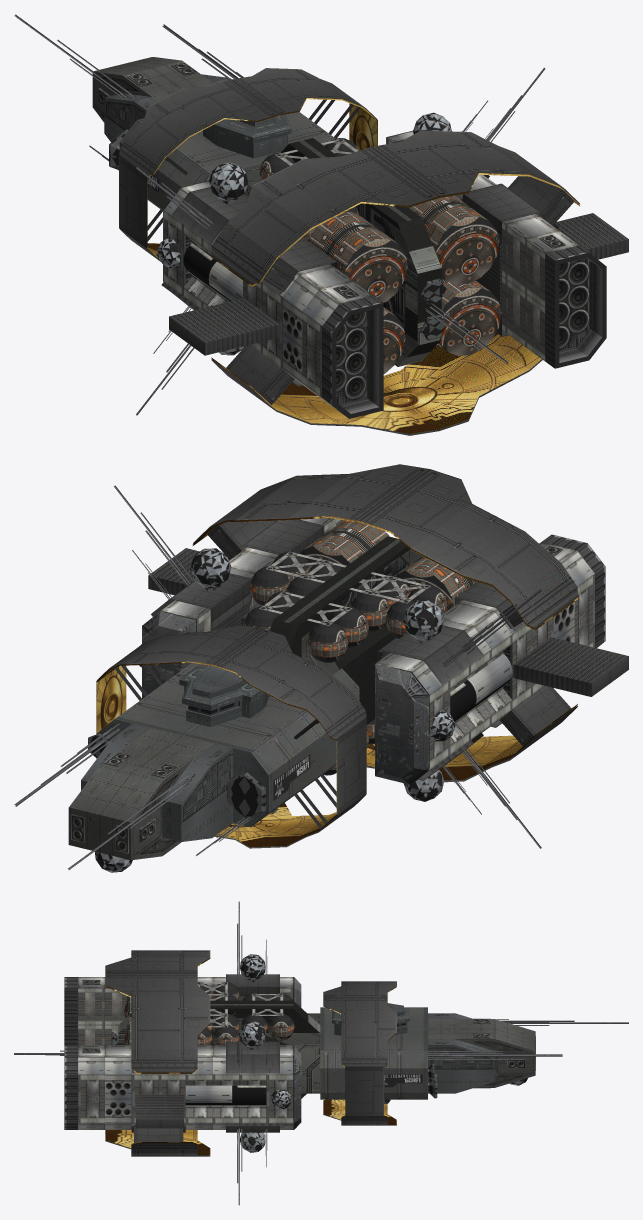
The model's file is cargo_ship.fbx.
3 renders of one model, top to bottom at view 1: azimuth 30°, elevation 25°; view 2: azimuth 150°, elevation 25°; view 3: azimuth 270°, elevation 25°, orthographic. The views are drawn at different scales.
Visible parts, largest first — view 1: mat_0006, mat_0008, mat_0013, mat_0015, mat_0010, mat_0005, mat_0014, mat_0004, mat_0011, mat_0012, mat_0019, mat_0003 (+3 smaller); view 2: mat_0006, mat_0008, mat_0005, mat_0010, mat_0013, mat_0015, mat_0009, mat_0017, mat_0014, mat_0003, mat_0016, mat_0012 (+7 smaller); view 3: mat_0006, mat_0008, mat_0005, mat_0010, mat_0014, mat_0017, mat_0013, mat_0011, mat_0003, mat_0012, mat_0015, mat_0016 (+3 smaller).
Boxes of the visible parts, x1=… form: mat_0006: x1=119, y1=68, x2=579, y2=435; mat_0008: x1=14, y1=14, x2=602, y2=415; mat_0013: x1=259, y1=138, x2=501, y2=373; mat_0015: x1=147, y1=98, x2=579, y2=433; mat_0010: x1=161, y1=139, x2=628, y2=386; mat_0005: x1=92, y1=57, x2=335, y2=210; mat_0014: x1=244, y1=138, x2=441, y2=366; mat_0004: x1=147, y1=99, x2=606, y2=418; mat_0011: x1=322, y1=245, x2=588, y2=415; mat_0012: x1=183, y1=203, x2=405, y2=334; mat_0019: x1=203, y1=114, x2=291, y2=158; mat_0003: x1=157, y1=112, x2=451, y2=355; mat_0006: x1=96, y1=464, x2=577, y2=848; mat_0008: x1=14, y1=485, x2=595, y2=869; mat_0005: x1=68, y1=662, x2=336, y2=860; mat_0010: x1=148, y1=519, x2=628, y2=780; mat_0013: x1=243, y1=520, x2=476, y2=775; mat_0015: x1=96, y1=516, x2=577, y2=847; mat_0009: x1=142, y1=611, x2=428, y2=784; mat_0017: x1=81, y1=719, x2=268, y2=841; mat_0014: x1=269, y1=536, x2=421, y2=724; mat_0003: x1=94, y1=548, x2=455, y2=872; mat_0016: x1=259, y1=551, x2=430, y2=744; mat_0012: x1=342, y1=556, x2=512, y2=722; mat_0006: x1=105, y1=950, x2=396, y2=1156; mat_0008: x1=14, y1=901, x2=628, y2=1205; mat_0005: x1=320, y1=1007, x2=535, y2=1099; mat_0010: x1=131, y1=974, x2=293, y2=1132; mat_0014: x1=118, y1=1000, x2=320, y2=1098; mat_0017: x1=428, y1=1013, x2=495, y2=1093; mat_0013: x1=124, y1=982, x2=294, y2=1045; mat_0011: x1=64, y1=977, x2=77, y2=1129; mat_0003: x1=240, y1=954, x2=527, y2=1152; mat_0012: x1=185, y1=1011, x2=266, y2=1106; mat_0015: x1=105, y1=958, x2=396, y2=1155; mat_0016: x1=197, y1=982, x2=283, y2=1027.
Bounding box in the file's own units: 24.72 × 13.87 × 45.69.
